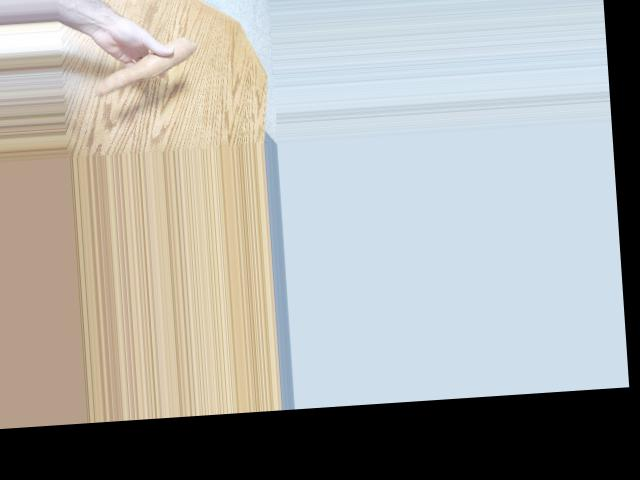sweet_potato: (91, 48, 202, 89)
